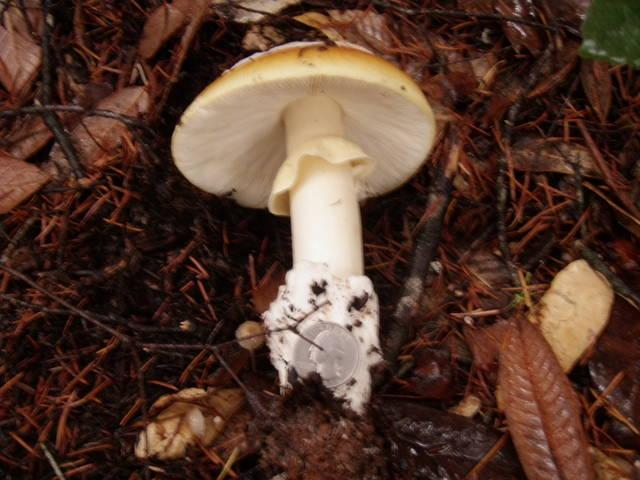Edible Mushroom: (169, 39, 438, 417)
